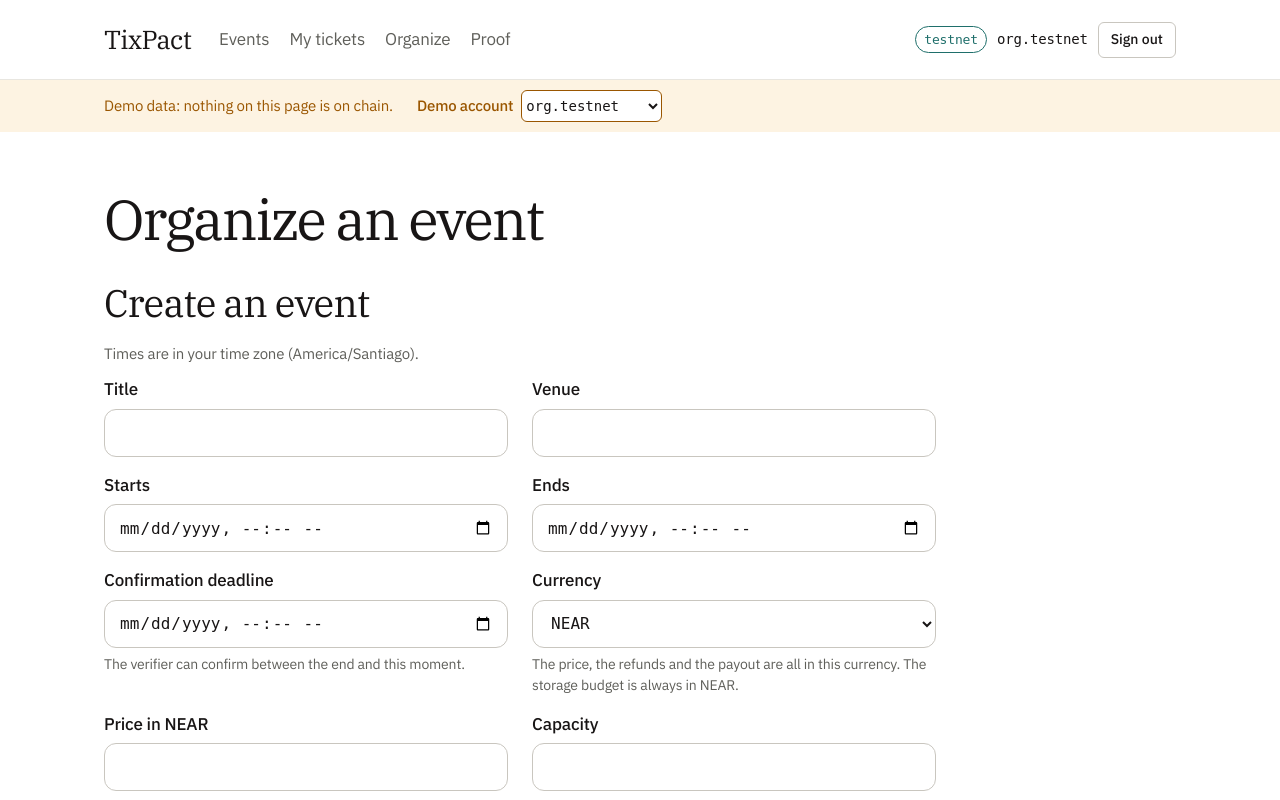
Scenario: /organizer: create an event › shows the storage budget from the contract and the three sentences
Expected: the heading "Organize an event" is shown, [104,182,543,255]
Type "Tango evening" into the field labelled "Title" at (306, 433), box [104,409,508,457]
Type "Centro Cultural GAM" into the field labelled "Venue" at (734, 433), box [532,409,936,457]
Type "2026-11-20T20:00" into the field labelled "Starts" at (306, 528), box [104,504,508,552]
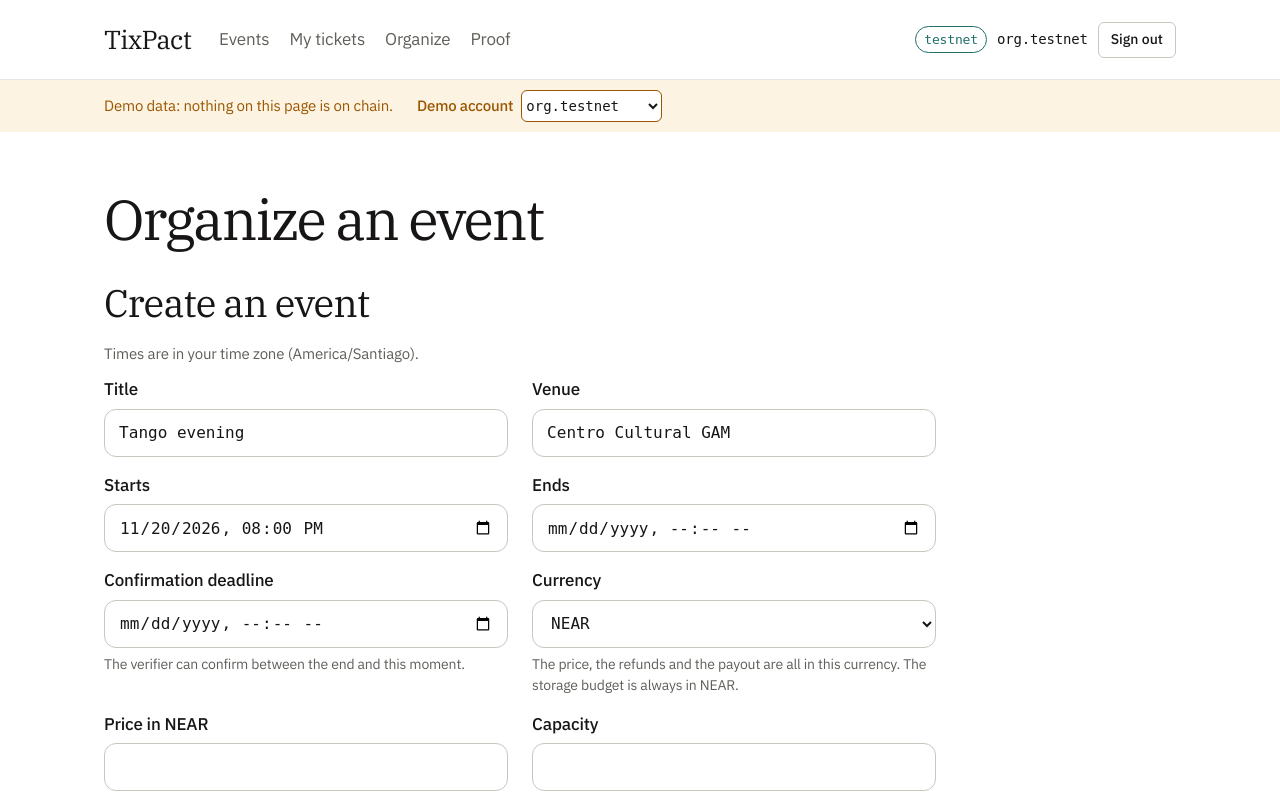
Type "2026-11-20T23:00" into the field labelled "Ends" at (734, 528), box [532,504,936,552]
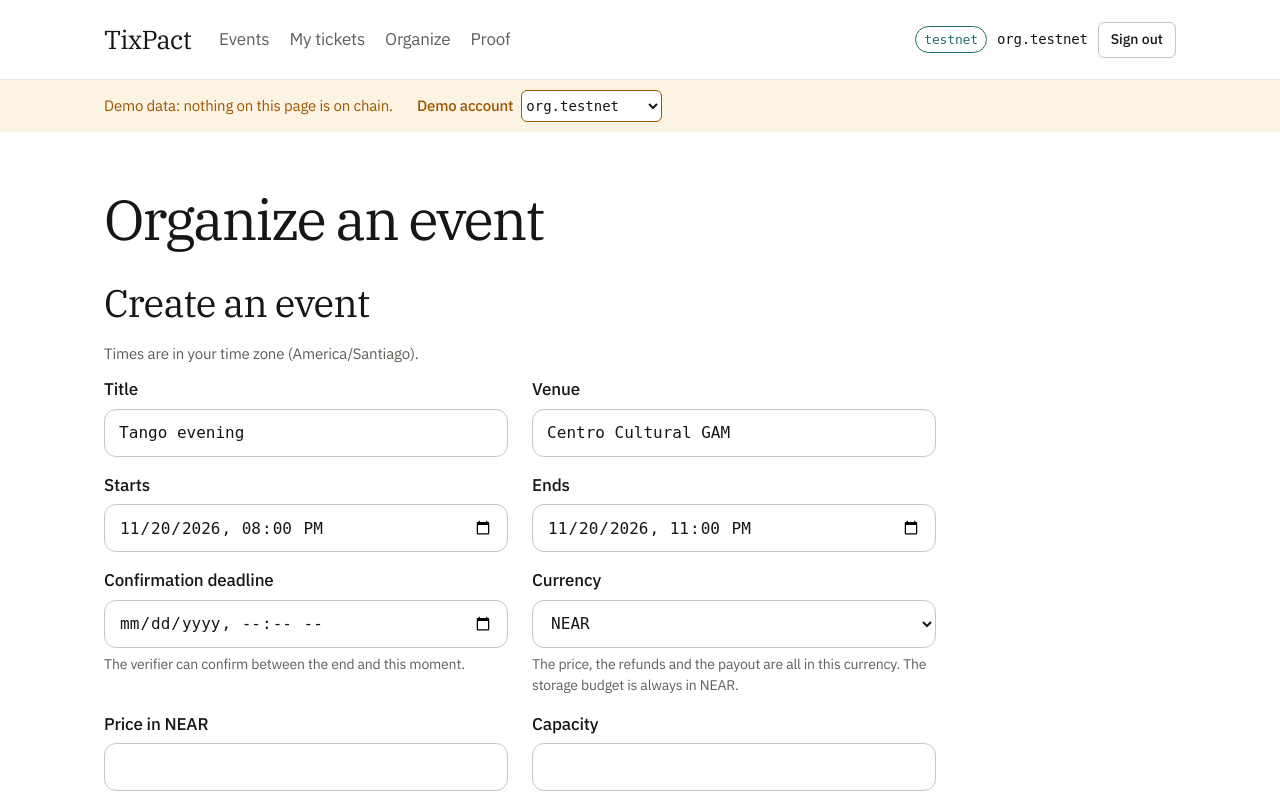
Type "2026-11-22T23:00" into the field labelled "Confirmation deadline" at (306, 624), box [104,600,508,648]
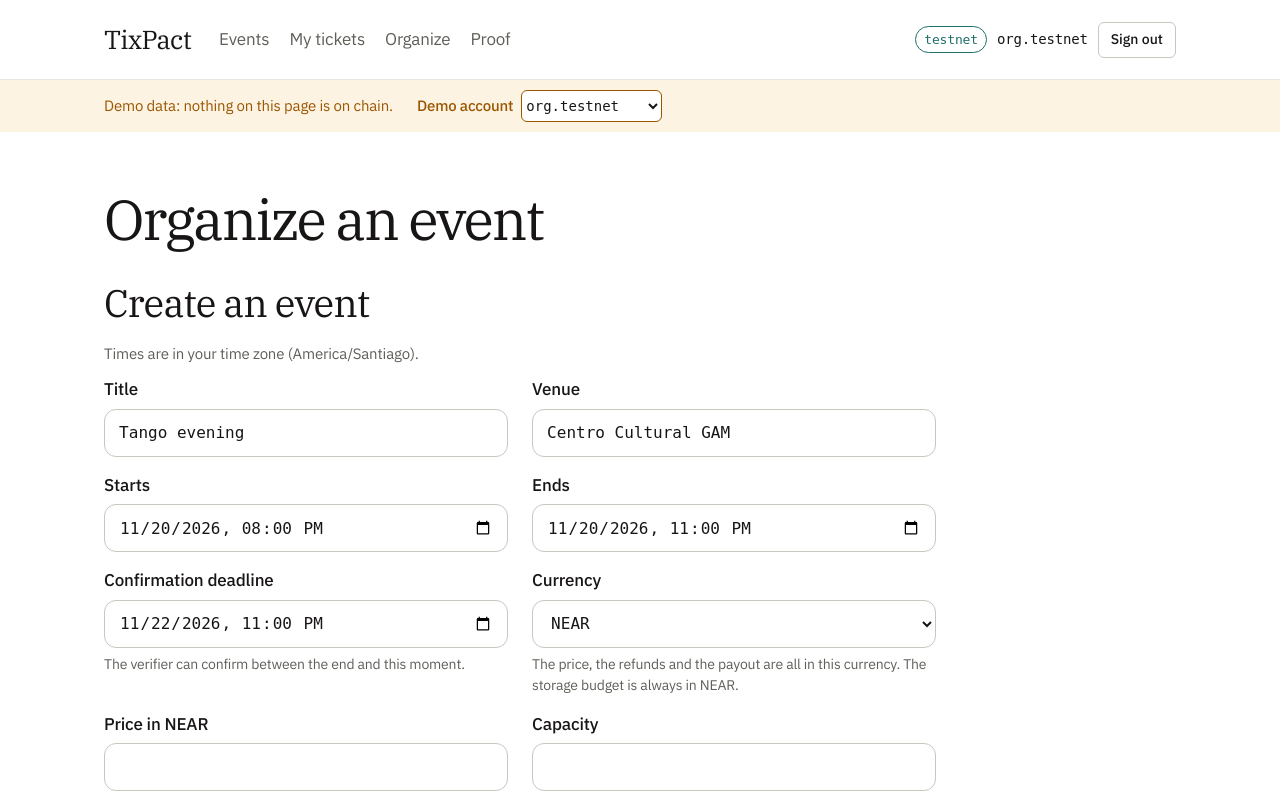
Type "1.5" into the field labelled "Price in NEAR" at (306, 767), box [104,743,508,791]
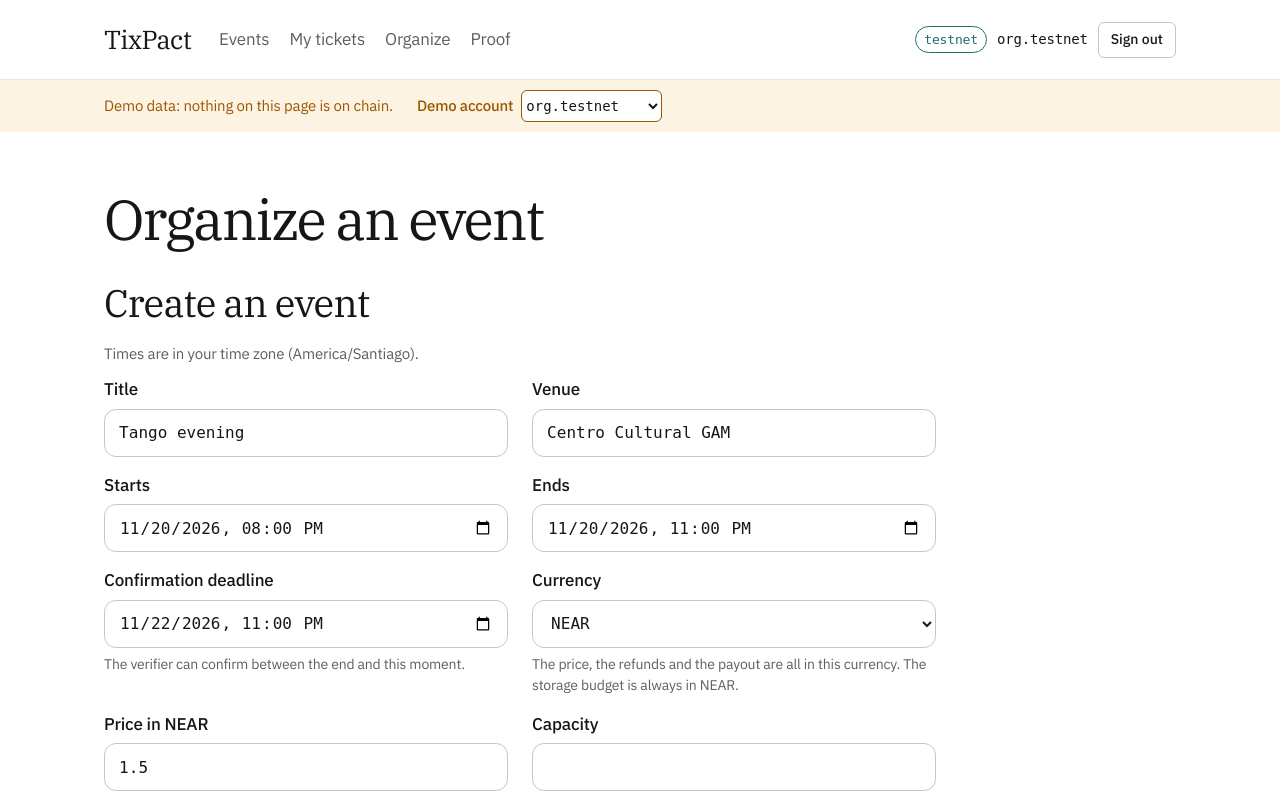
Type "50" into the field labelled "Capacity" at (734, 767), box [532,743,936,791]
(page scrolled)
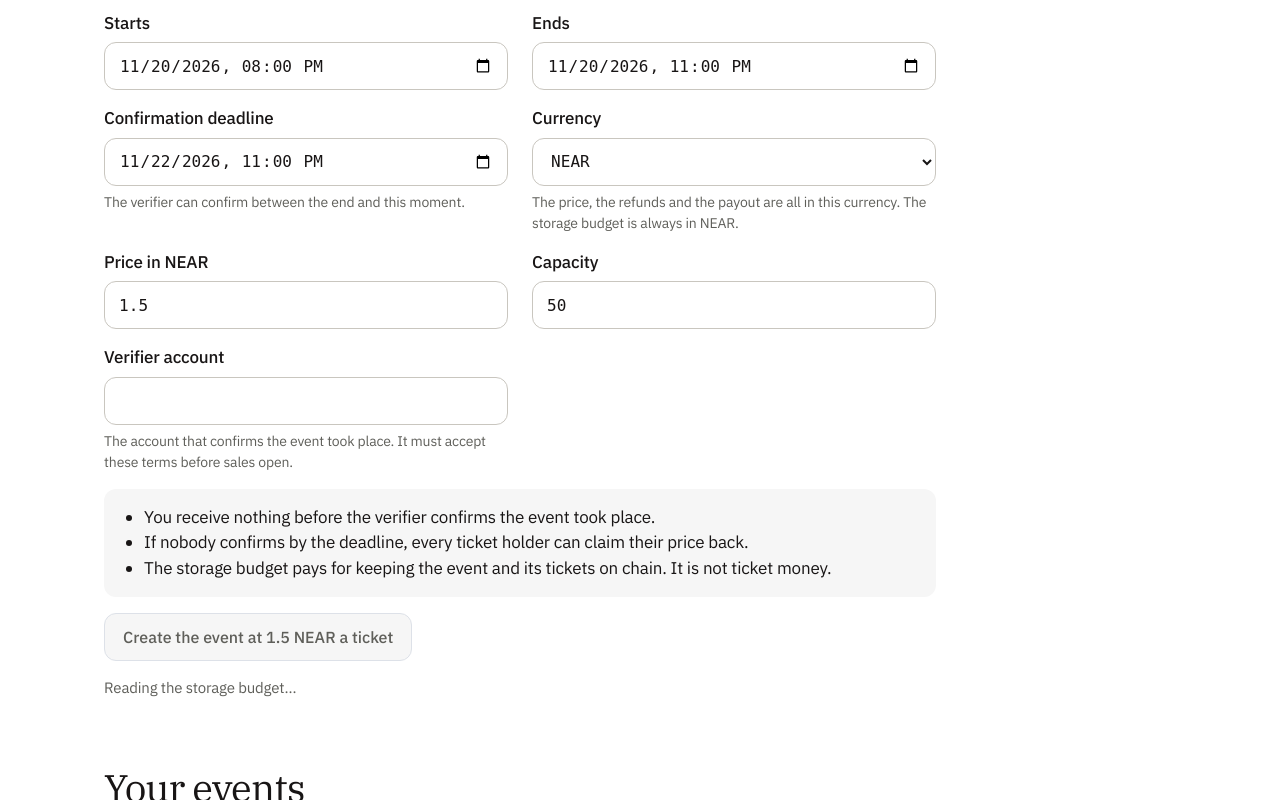
Type "teatro.testnet" into the field labelled "Verifier account" at (306, 401), box [104,377,508,425]
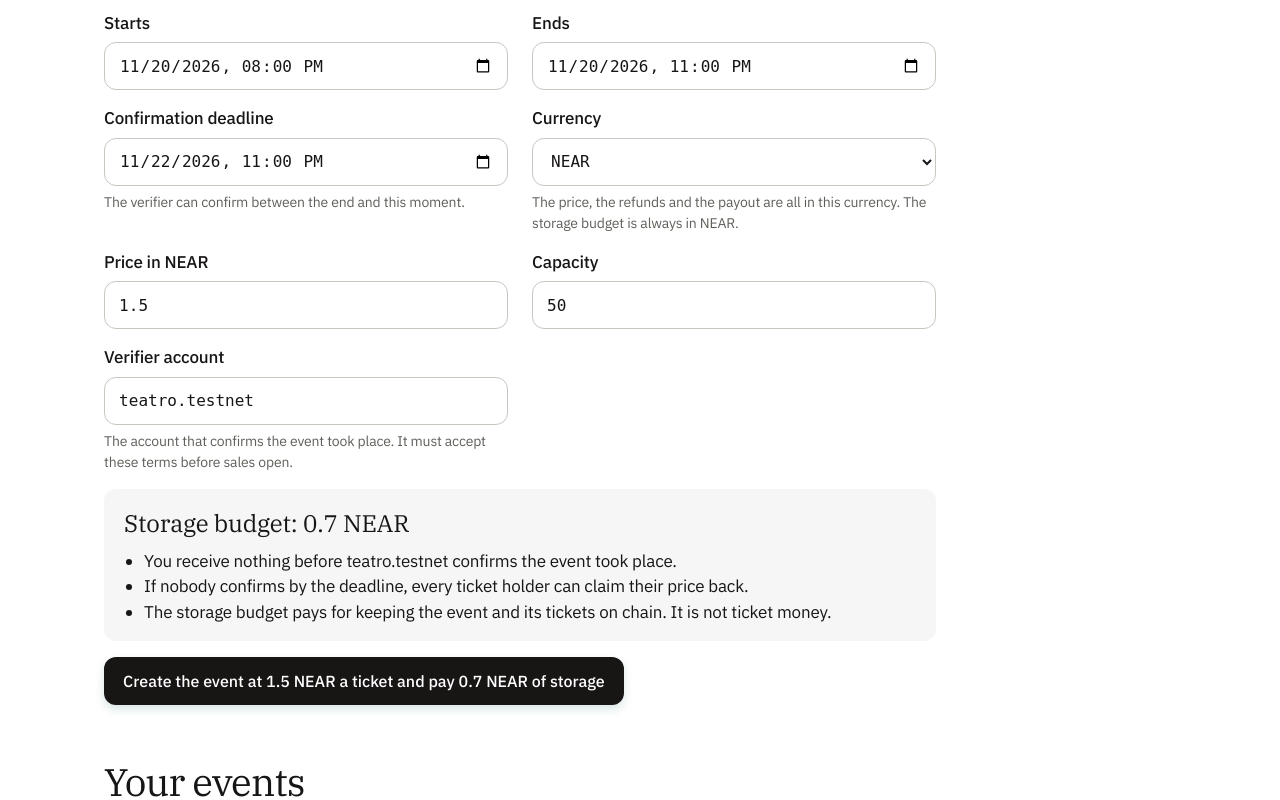
Expected: the text "Storage budget: 0.7 NEAR" is shown, [124,507,409,539]
Expected: the list item "You receive nothing before teatro.testnet confirms" is shown, [144,550,677,572]
Expected: the button "Create the event" reads "Create the event at 1.5 NEAR a ticket and pay 0.7 NEAR of storage", [104,657,624,705]
